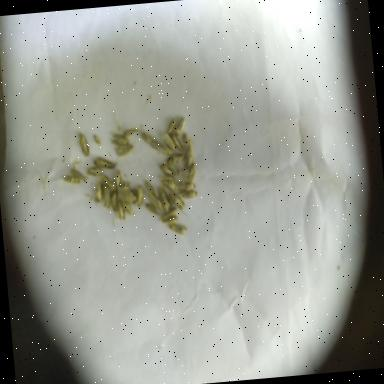pbw: (170, 191, 190, 219), (143, 190, 163, 214), (76, 131, 90, 158), (142, 176, 158, 198), (158, 188, 172, 213), (161, 176, 180, 194), (94, 158, 117, 172), (168, 222, 188, 238), (134, 184, 146, 210), (69, 168, 88, 184), (162, 133, 176, 154), (111, 132, 131, 146), (101, 184, 112, 208), (184, 144, 194, 170), (101, 176, 117, 192), (160, 163, 174, 181), (84, 166, 104, 178), (145, 202, 160, 218), (61, 173, 81, 185), (115, 145, 133, 158), (160, 207, 178, 220), (92, 184, 103, 205), (176, 182, 198, 192), (122, 128, 139, 140), (186, 166, 198, 183), (166, 154, 184, 165), (122, 201, 134, 217), (181, 190, 199, 200), (114, 170, 123, 190), (173, 136, 184, 152), (118, 200, 126, 222), (176, 118, 186, 134), (110, 190, 119, 207), (161, 216, 178, 224), (166, 120, 177, 132), (93, 135, 101, 146)
